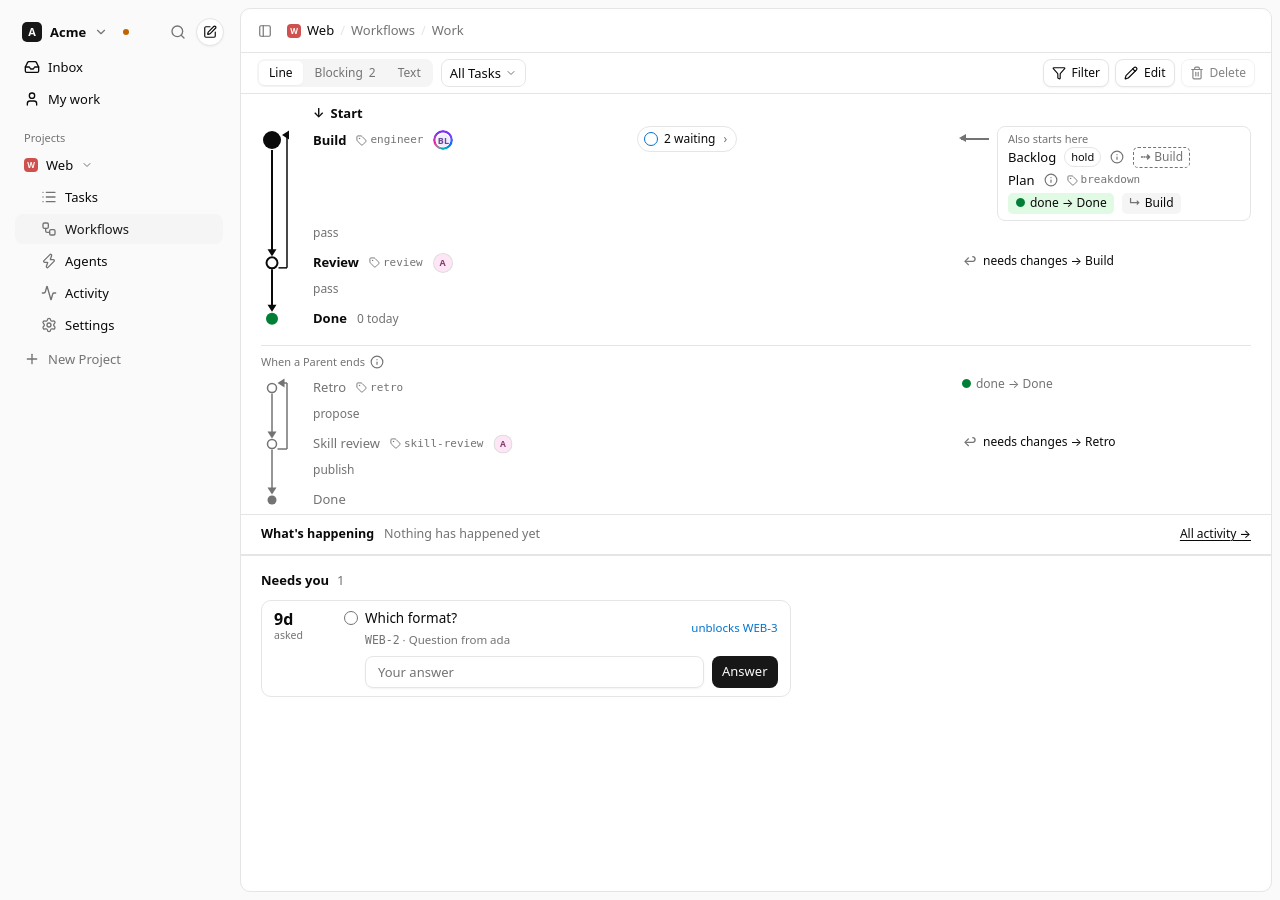
Scenario: the Workflow page › selecting a blocked token puts its way above the line: when it unblocks, what comes first and its button; its chain ringed
Click the button with aria-label "Build: ".
click(687, 139)  # box x1=637 y1=126 x2=737 y2=152
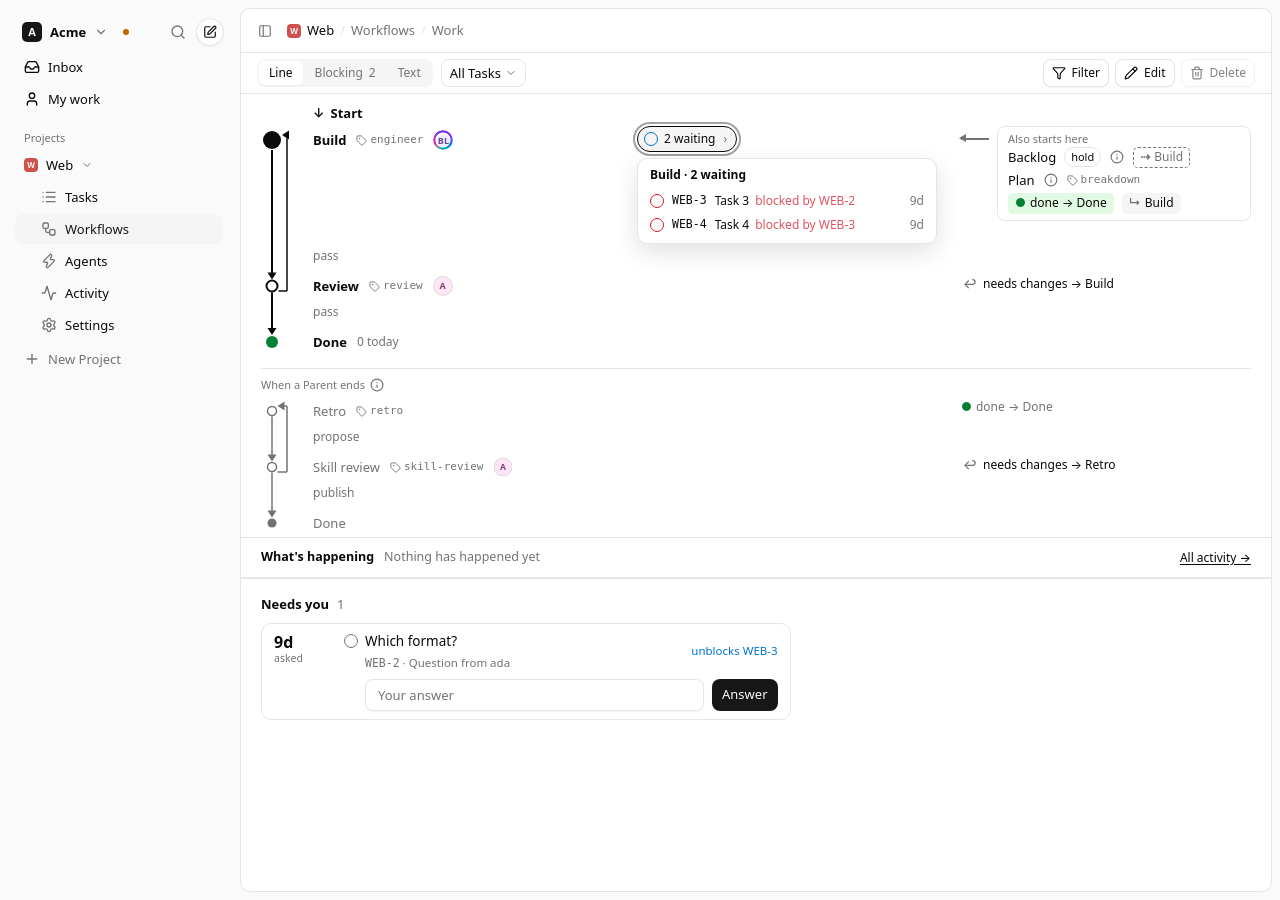
Click the button "WEB-4 Task 4blocked by WEB-3 9d".
click(787, 225)  # box x1=642 y1=213 x2=932 y2=237
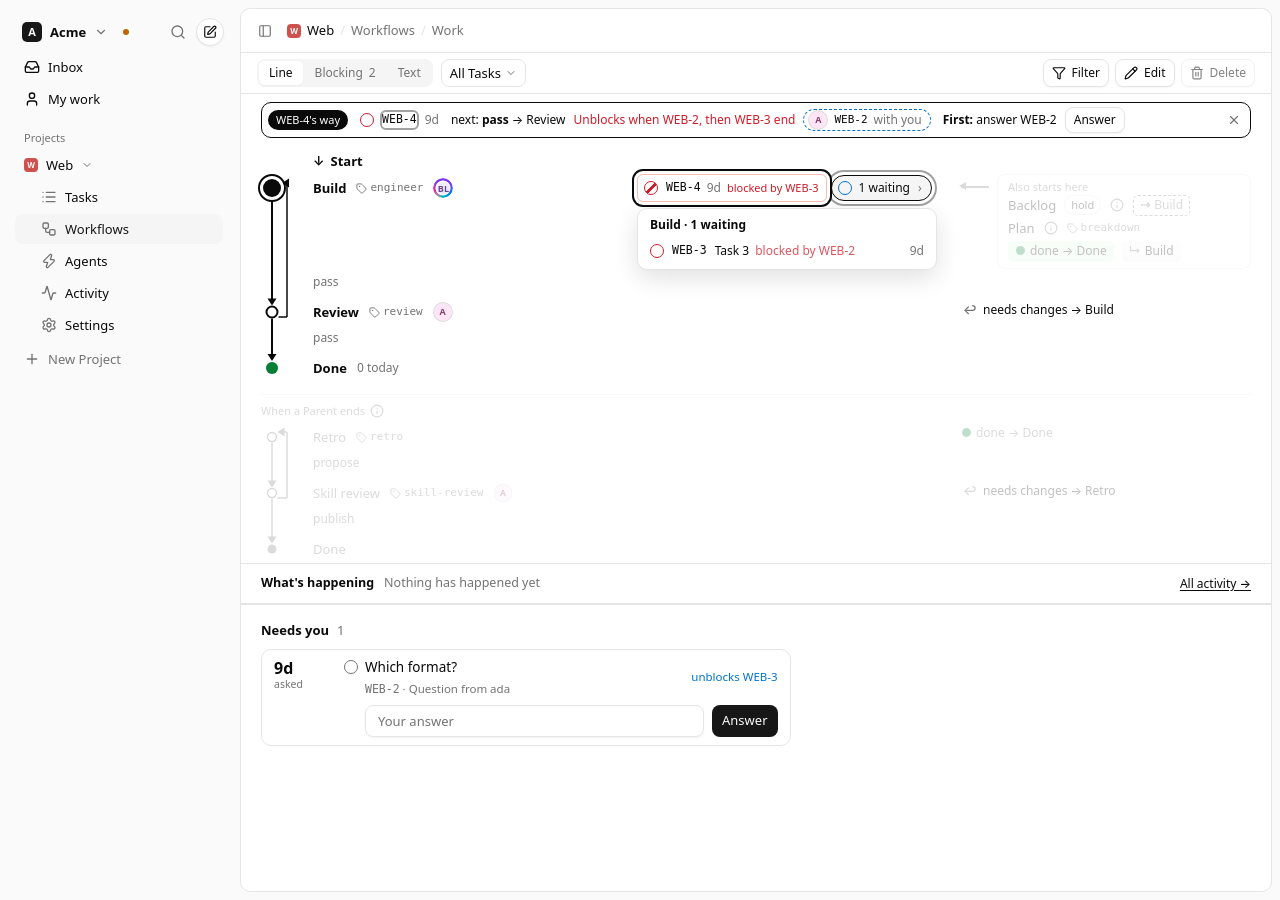
expect the element "WEB-4's way" is shown: met, box x1=276 y1=112 x2=340 y2=127
expect the element "WEB-4's way" shows "next: pass → Review": met, box x1=261 y1=102 x2=1251 y2=138
expect the element "WEB-4's way" shows "Unblocks when WEB-2, then WEB-3 end": met, box x1=574 y1=111 x2=795 y2=128
Press Escape
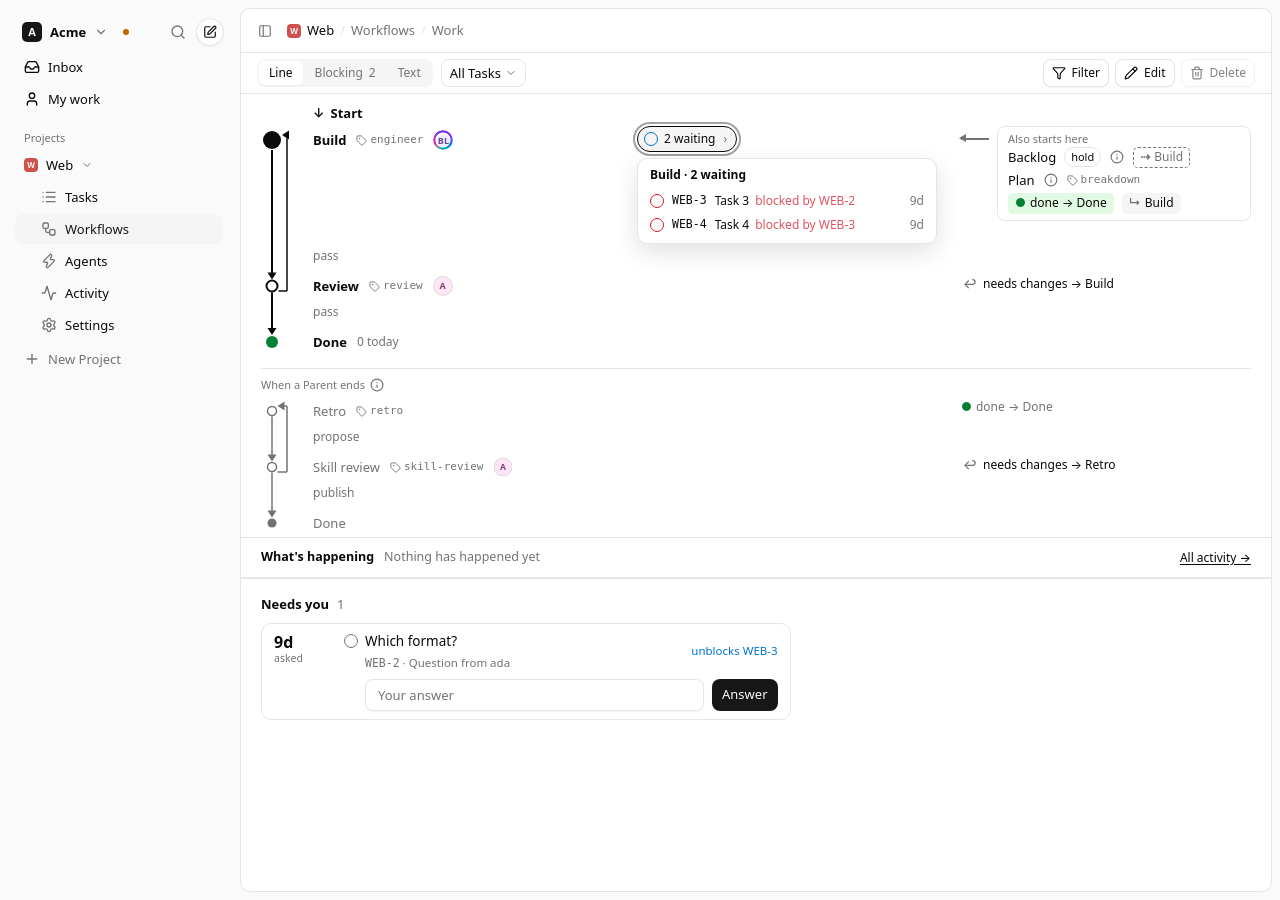
expect the text "WEB-4's way" is gone: met
